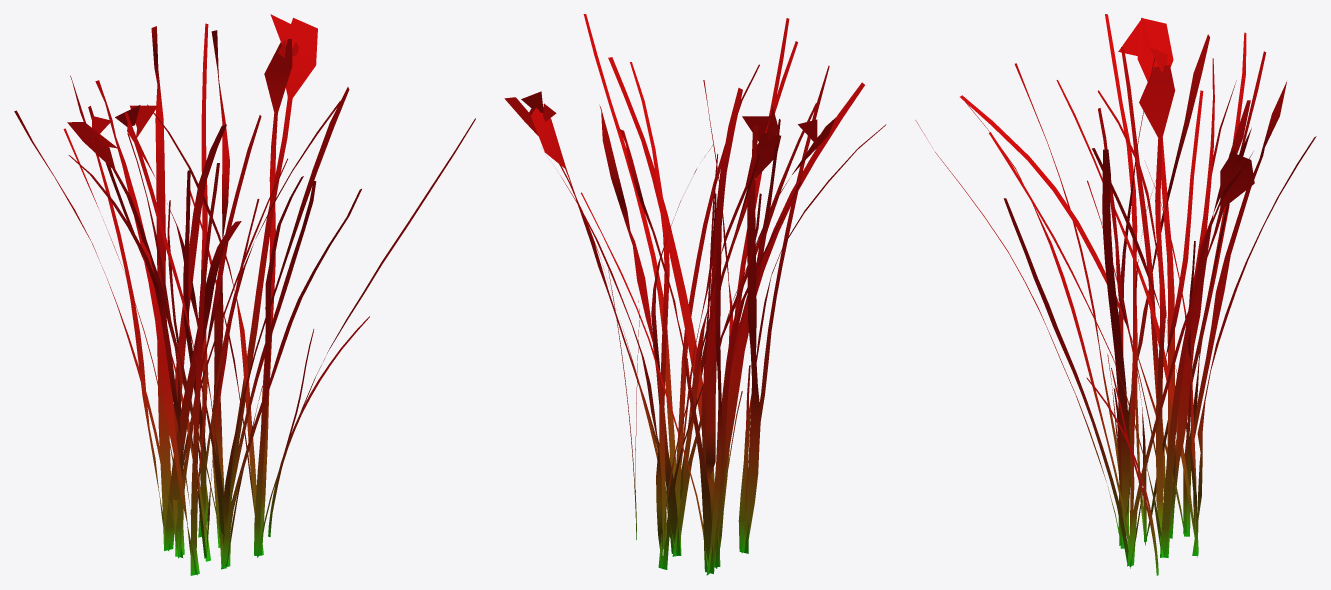
Rendered from Softstem Bulrush_LOD1_Var4_uehjcafia.fbx.
The picture shows the model from 3 angles, left to right: view 1: azimuth 30°, elevation 25°; view 2: azimuth 150°, elevation 25°; view 3: azimuth 270°, elevation 25°; orthographic projection.
Visible parts, largest first — view 1: _ad85_Var4_LOD1; view 2: _ad85_Var4_LOD1; view 3: _ad85_Var4_LOD1.
Part boxes in pixels (left/top/right/bottom): _ad85_Var4_LOD1: left=14, top=14, right=475, bottom=575; _ad85_Var4_LOD1: left=504, top=14, right=886, bottom=575; _ad85_Var4_LOD1: left=915, top=14, right=1316, bottom=575.
Bounding box in the file's own units: 98.56 × 127 × 97.03.
